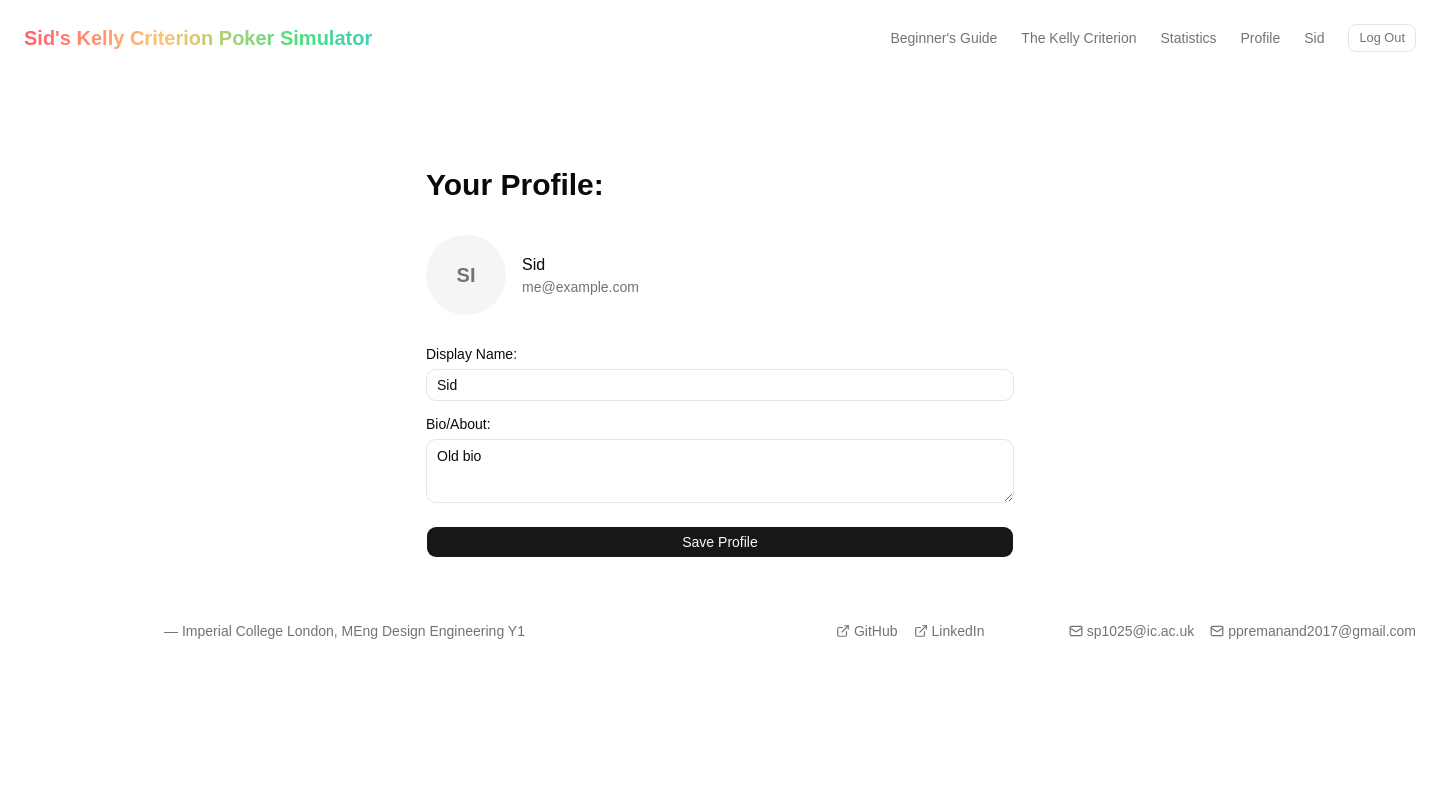
Test: ProfilePage › saves the profile, shows a confirmation, and refreshes the header display name
Replace the text in the field labelled "Display Name:" with "New Name": (720, 385) [426, 369, 1014, 401]
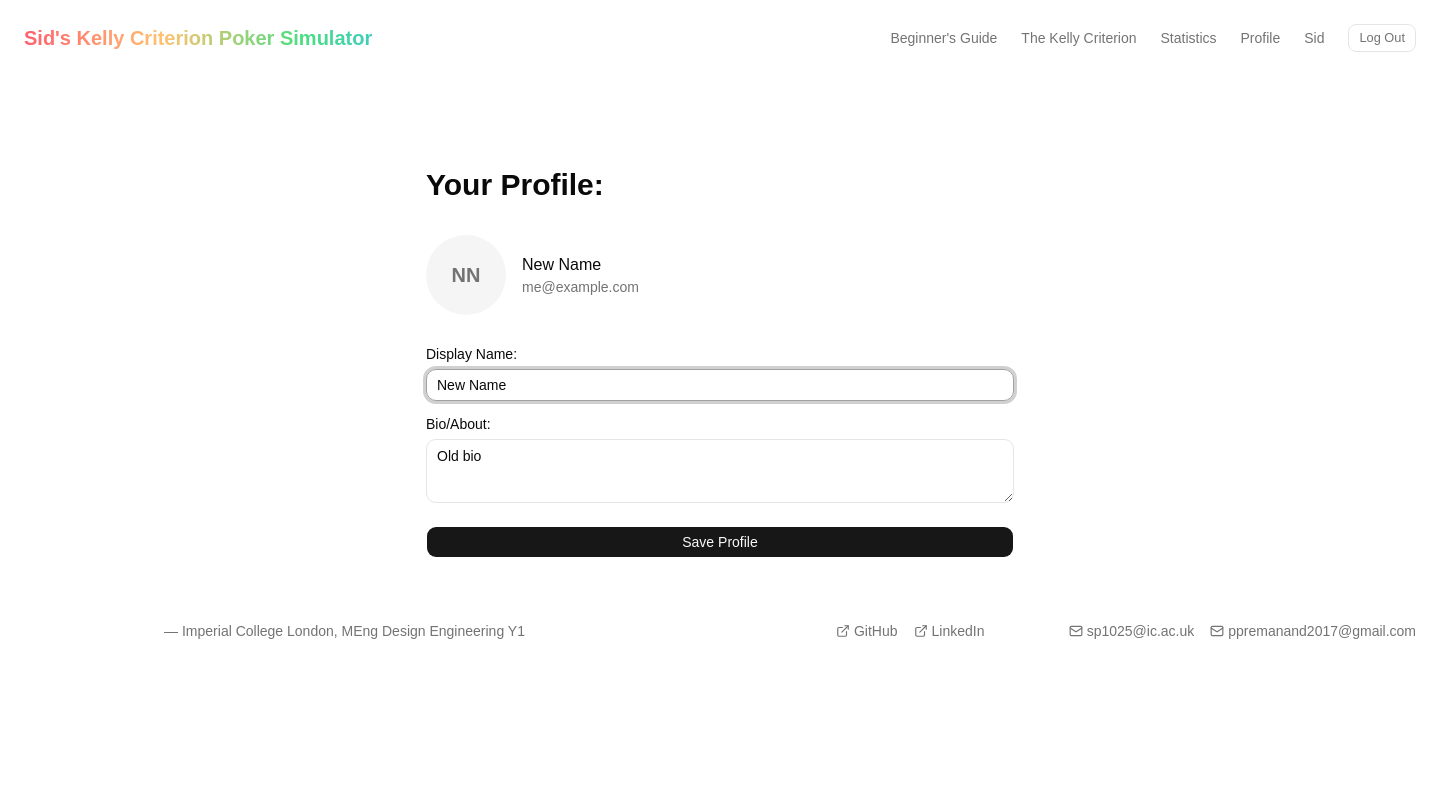
Click the button "Save Profile": (720, 542) [426, 526, 1014, 558]
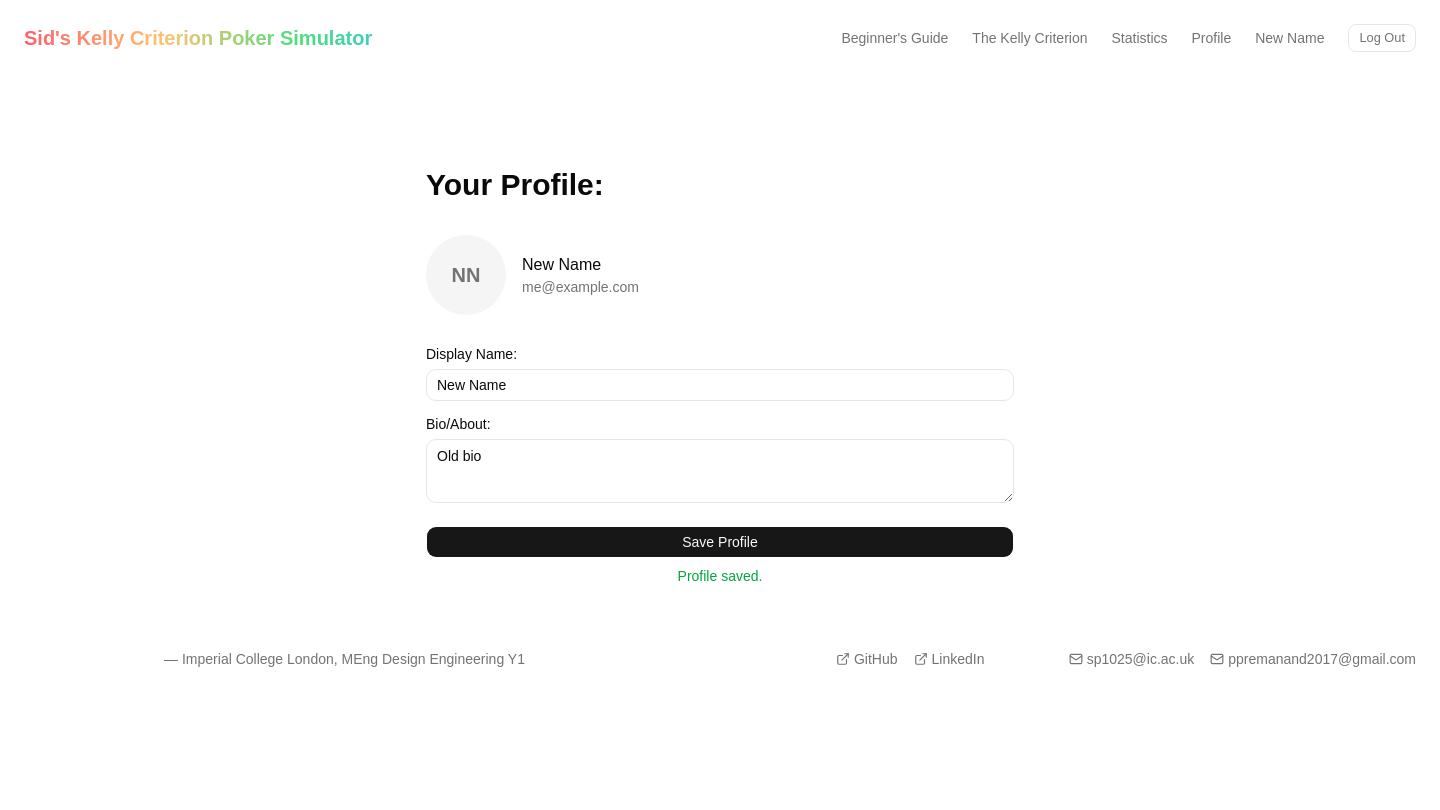
Now the text "Profile saved." is shown, box [678, 566, 762, 586]
